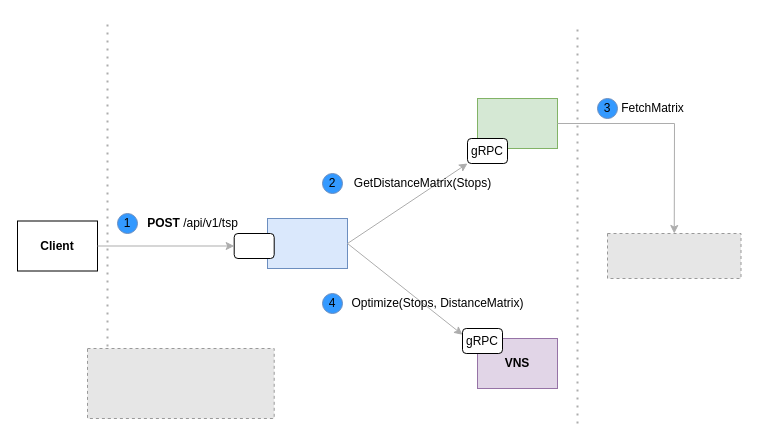
This 759x442 diagram has some shape labels left out. Grey dashed boxes stand in for pictures. Each missing label, with the centre of its shape:
API: the point at 253,245
Optimizer: the point at 307,243
Table: the point at 517,123
